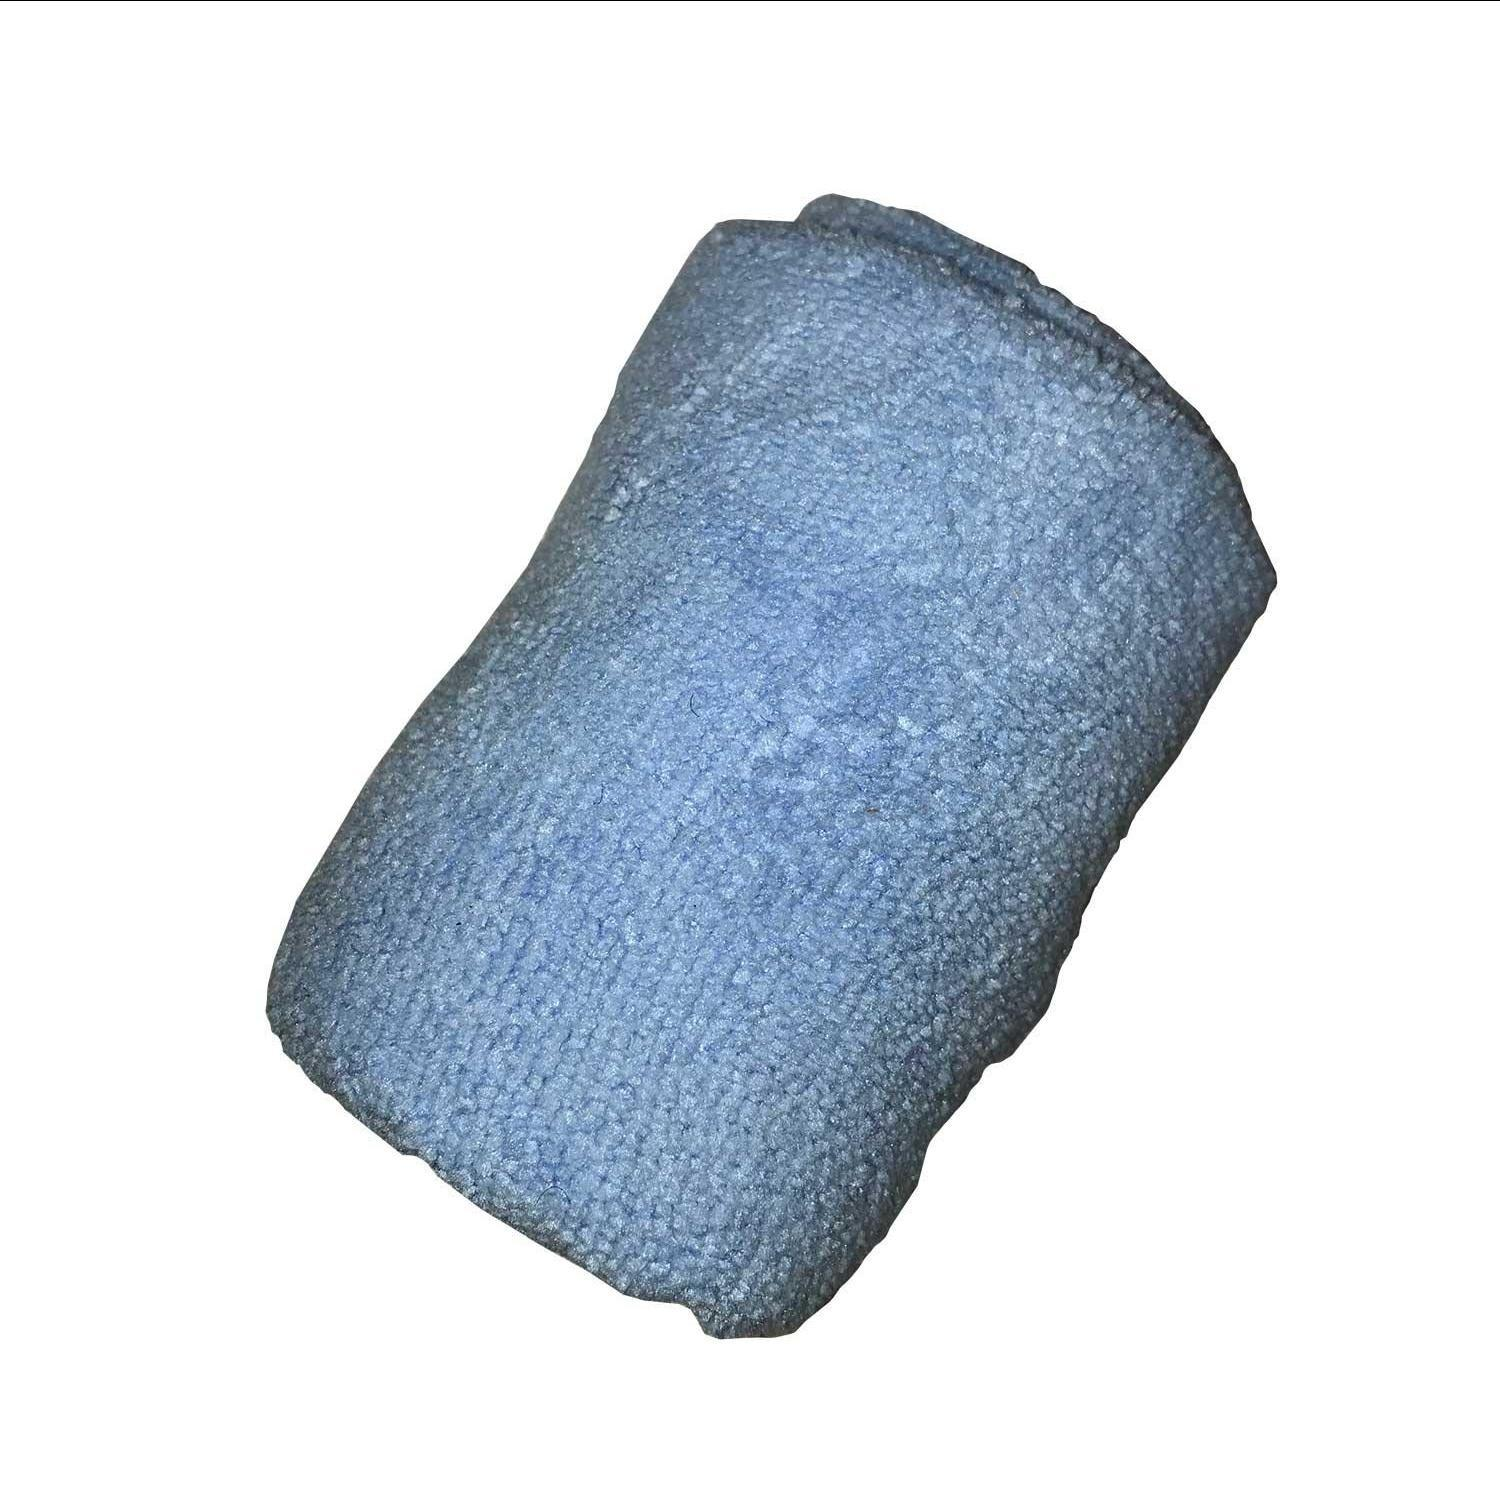towel: (196, 140, 1397, 1374)
